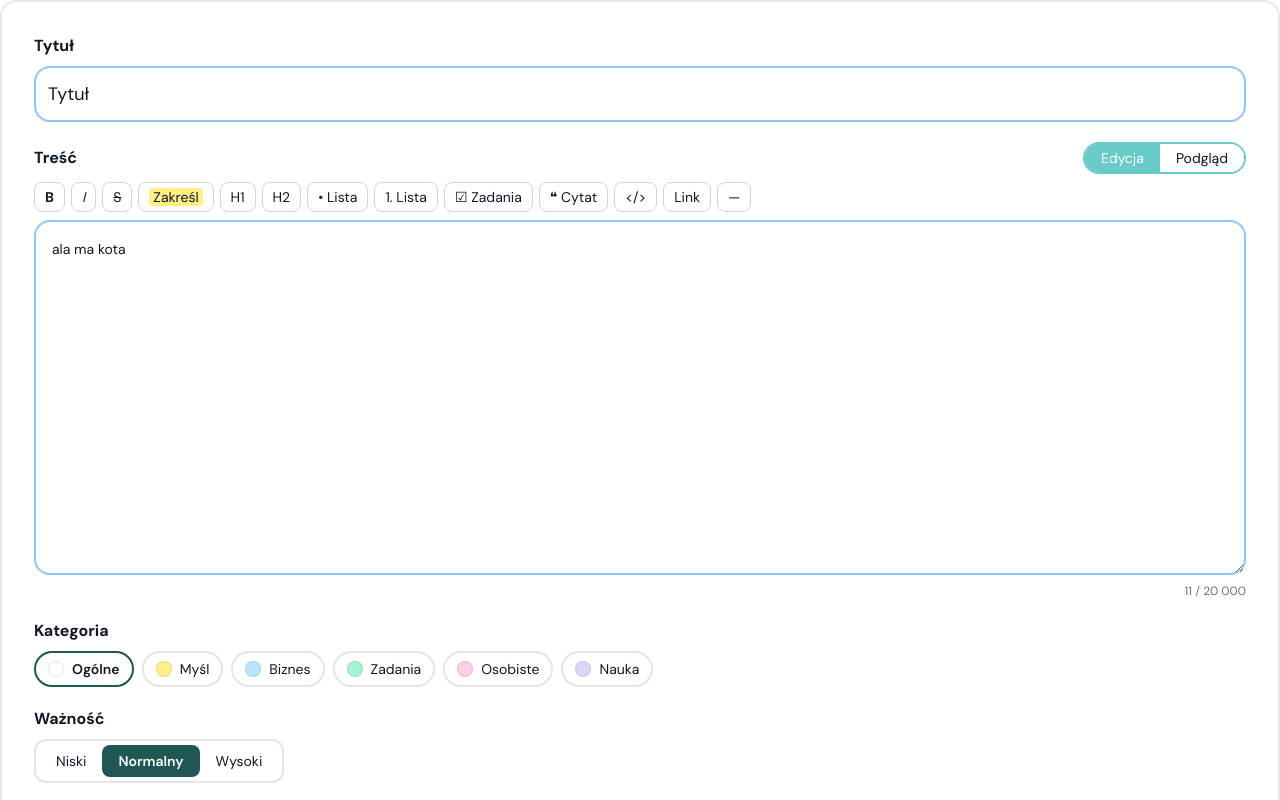
Test: NoteEditor — pasek formatowania › pogrubia zaznaczony tekst
Step 1. Click the button titled "Pogrubienie (Ctrl+B)" → click(49, 197), box [34, 182, 65, 212]
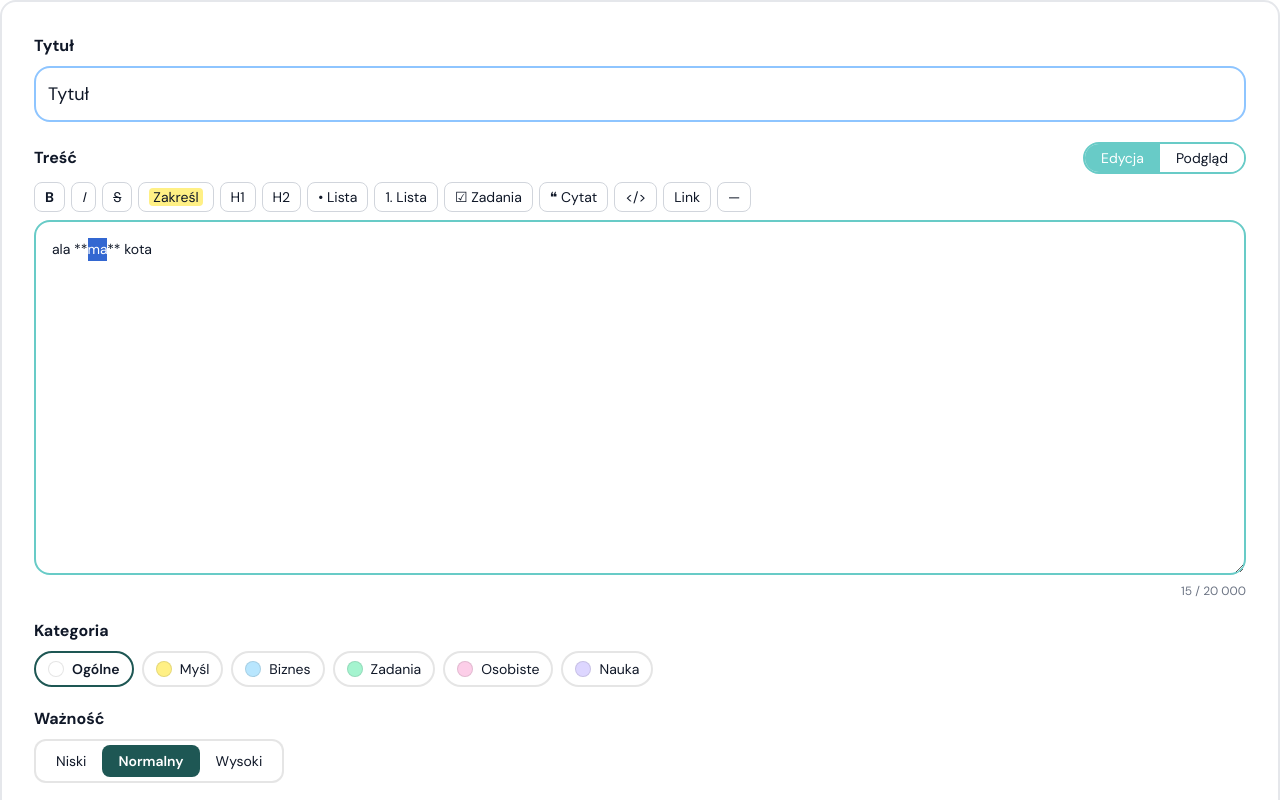
Now the text box with placeholder "Zacznij pisać" holds "ala **ma** kota", box [34, 220, 1246, 574]
